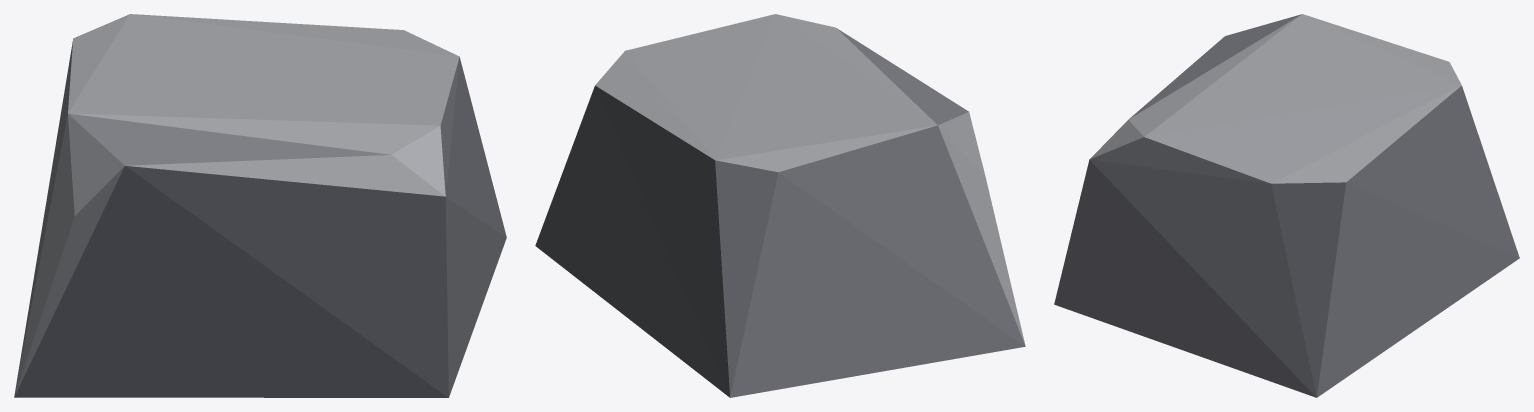
File: rock_small_a.fbx
The picture shows the model from 3 angles, left to right: view 1: azimuth 30°, elevation 25°; view 2: azimuth 150°, elevation 25°; view 3: azimuth 270°, elevation 25°; orthographic projection. The views are drawn at different scales.
Visible parts, largest first — view 1: rock_small_a; view 2: rock_small_a; view 3: rock_small_a.
Part boxes in pixels (x1=…): rock_small_a: x1=14, y1=14, x2=506, y2=397; rock_small_a: x1=535, y1=14, x2=1025, y2=397; rock_small_a: x1=1054, y1=14, x2=1519, y2=397.
Bounding box in the file's own units: 0.6987 × 0.3168 × 0.6412.
